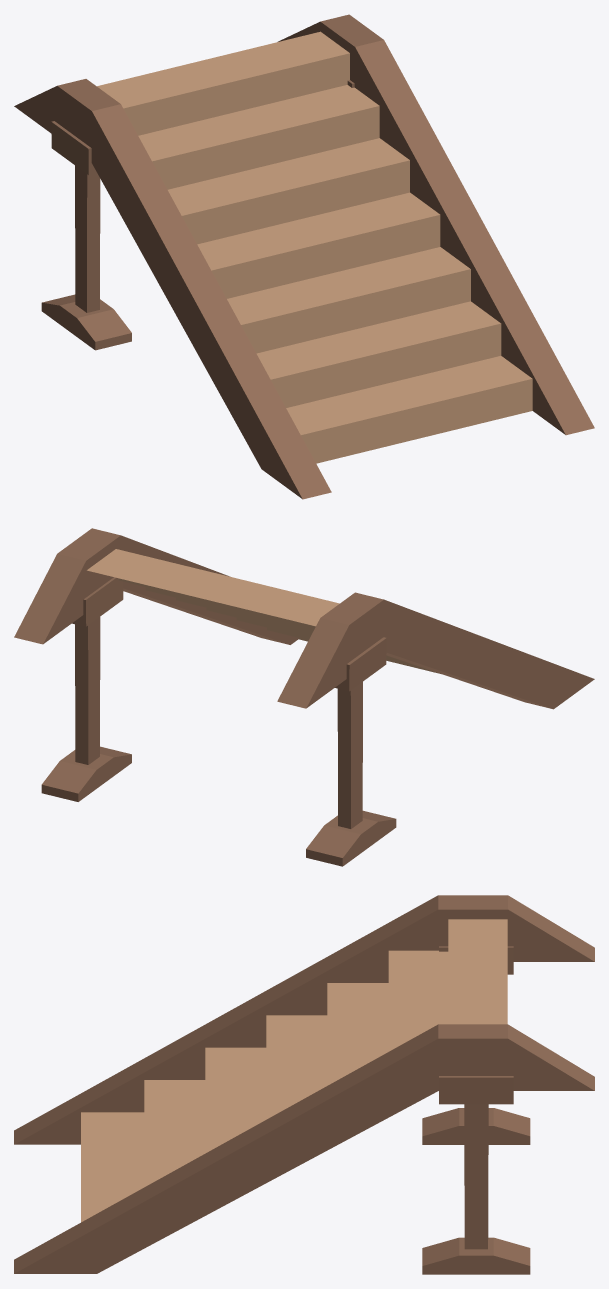
Rendered from quaternius-ultimate-space-pack-stairs-transformed.glb.
3 views of the same model, one above another, from view 1: azimuth 30°, elevation 25°; view 2: azimuth 150°, elevation 25°; view 3: azimuth 270°, elevation 25° (orthographic).
Visible parts, largest first — view 1: Stairs; view 2: Stairs; view 3: Stairs.
Boxes of the visible parts, x1,y1,x2,y2 form: Stairs: (14,14,594,499); Stairs: (14,528,594,866); Stairs: (14,895,594,1274).
Size of the model in its own units: 1.87 by 1.39 by 3.11.
Materials: 1 (1 with a texture image).
